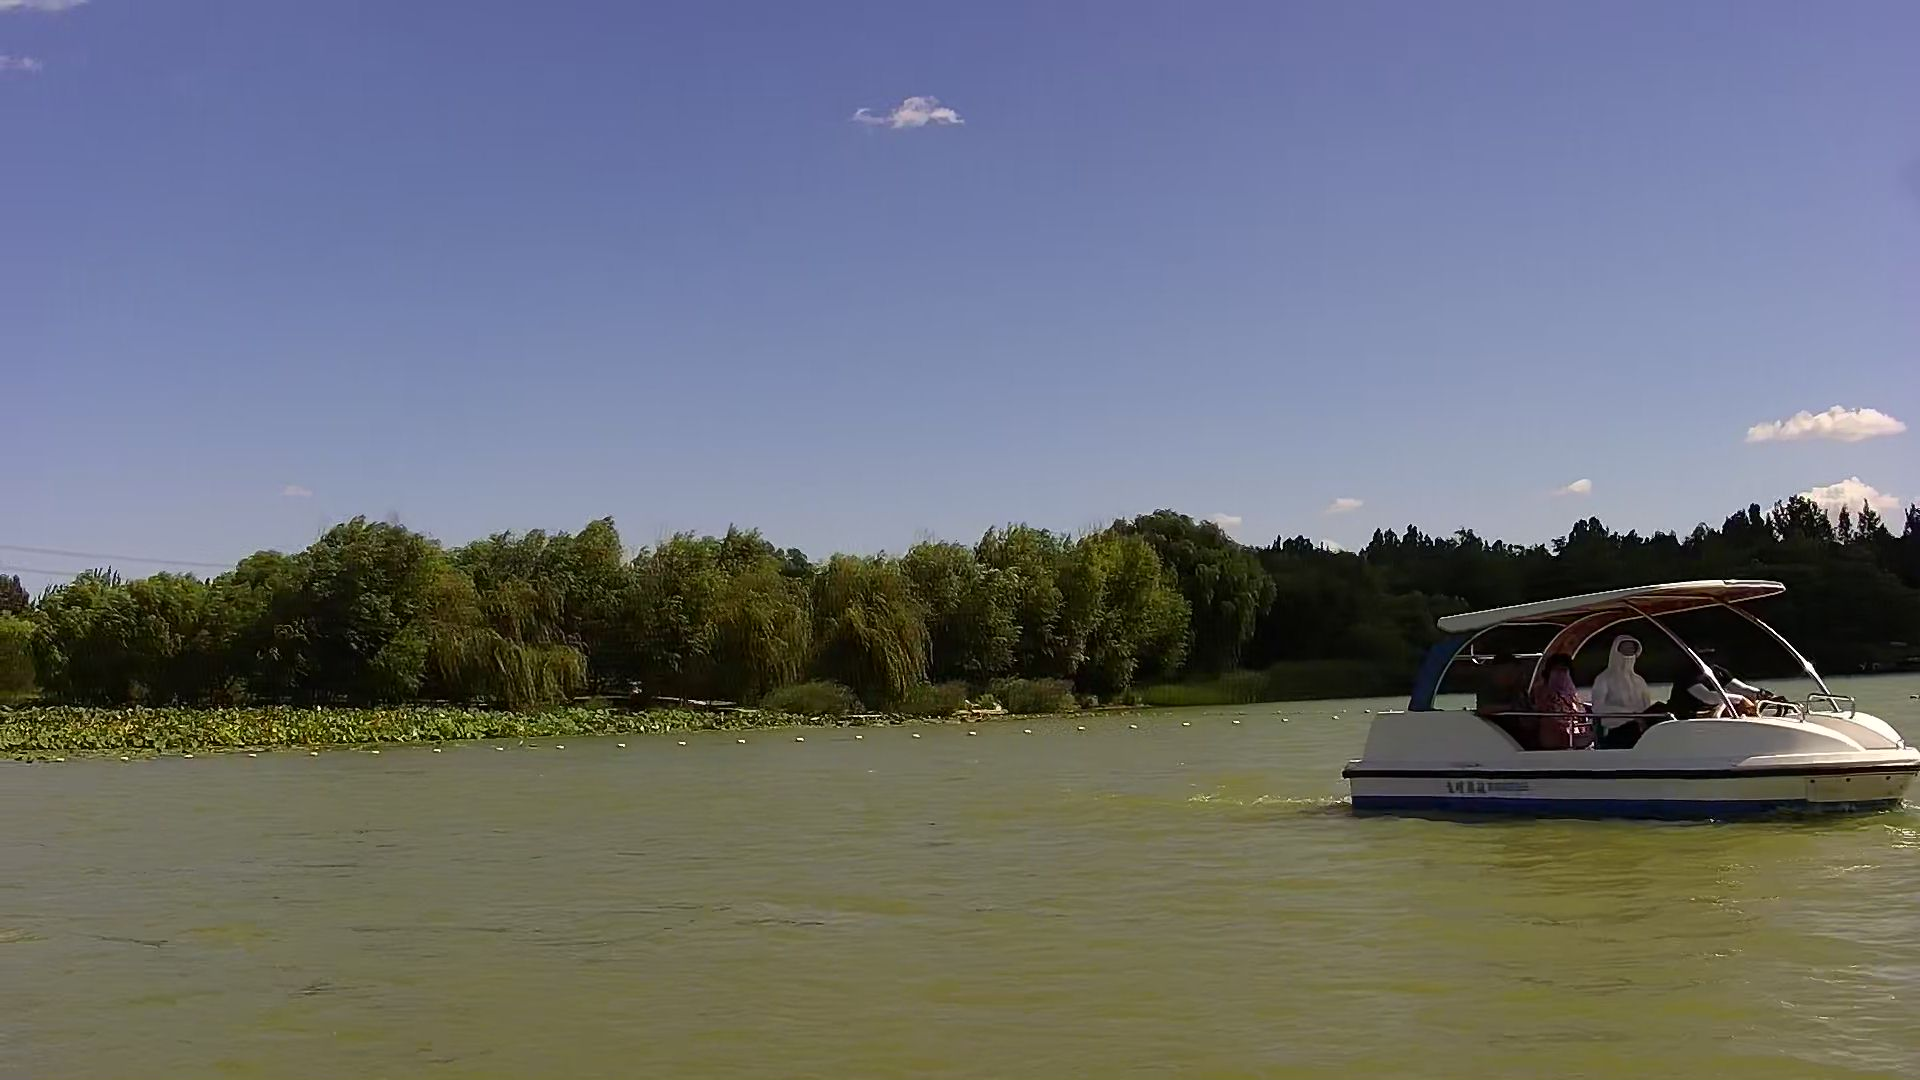boat: (1338, 574, 1920, 818)
